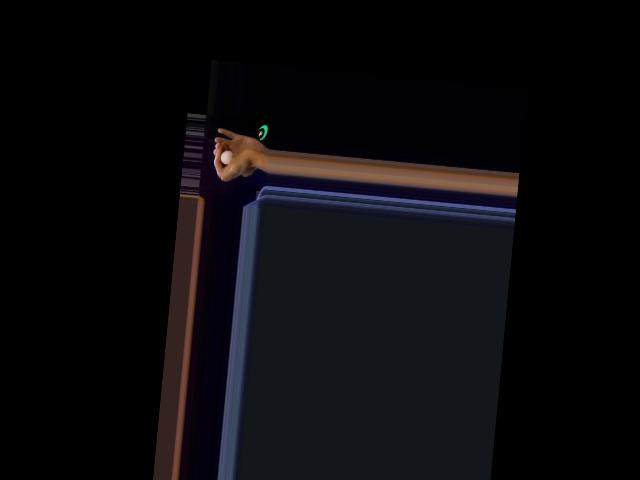egg: (219, 150, 232, 165)
